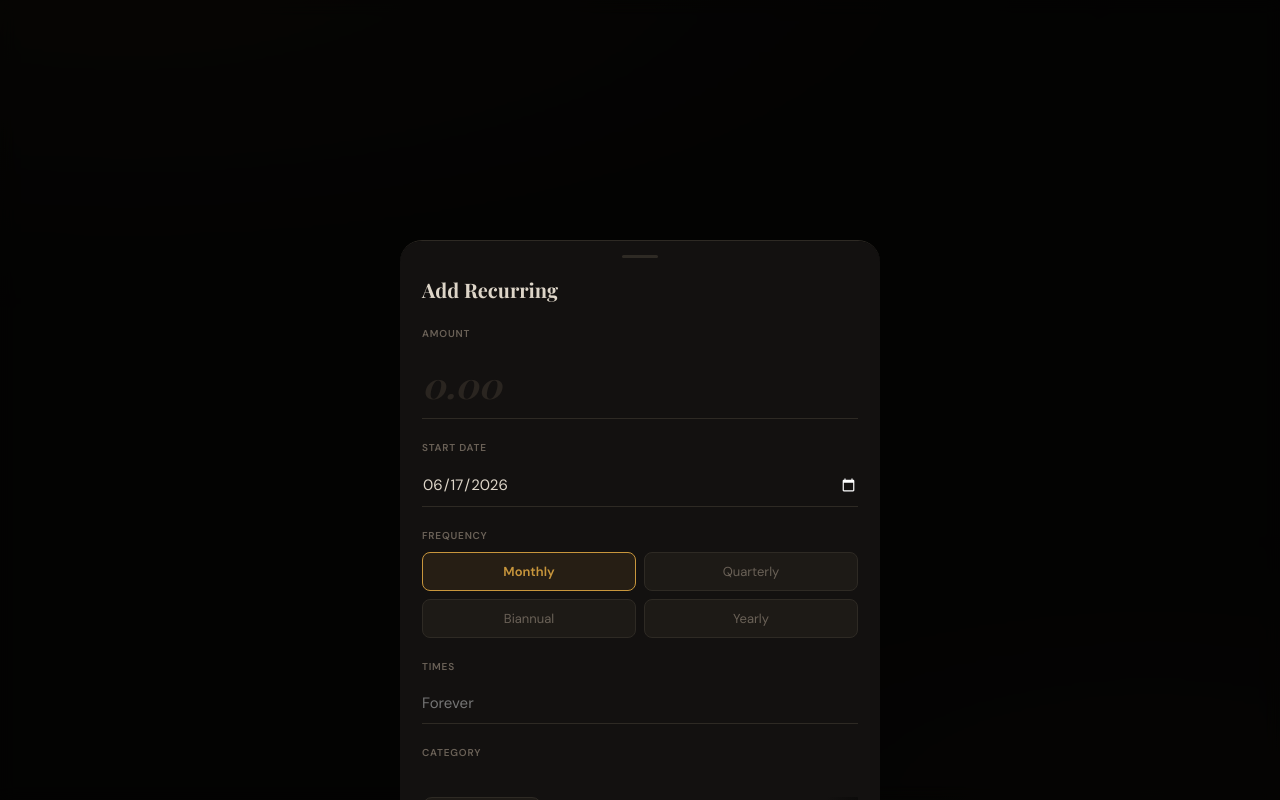
RecurringModal › does not save without a category
Type "100" into the number field with placeholder "0.00".
click(640, 384); type("100")  # box [422,350,858,419]
(page scrolled)
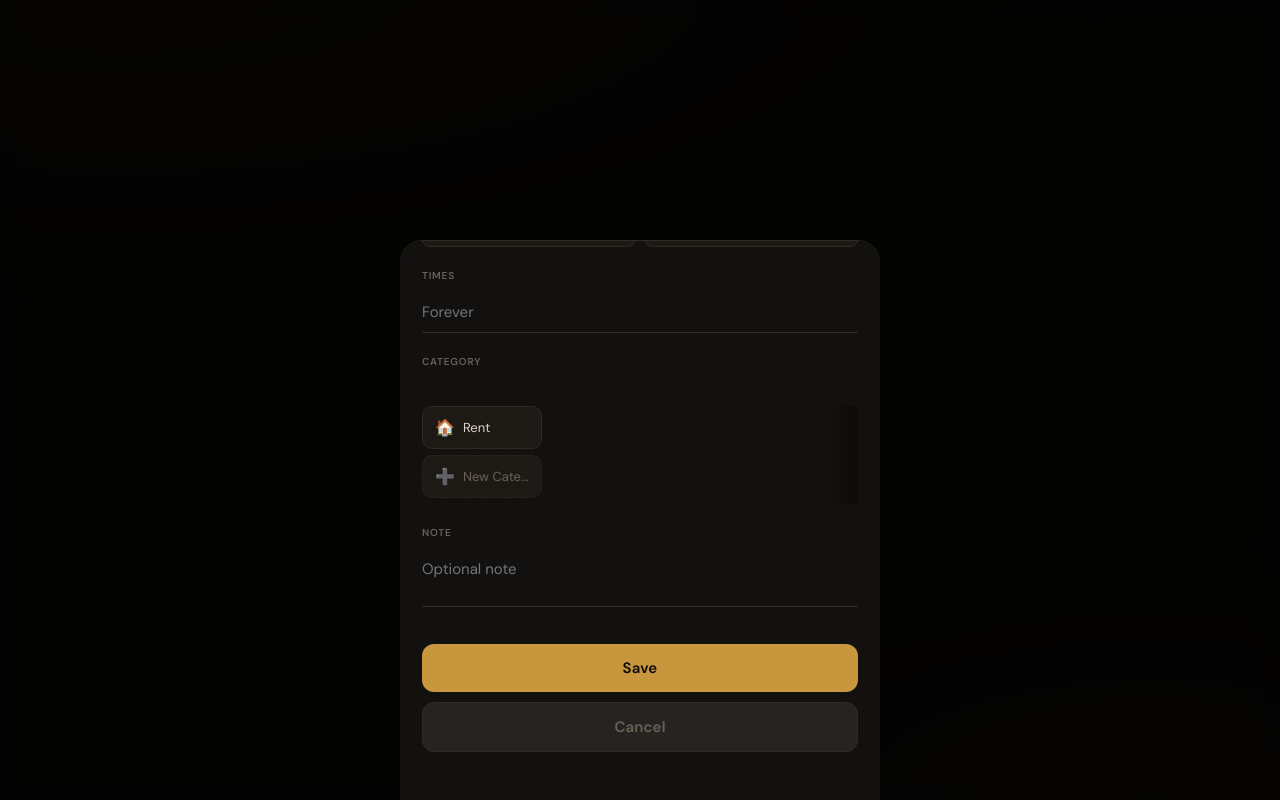
Click the button "Save".
click(640, 668)  # box [422,644,858,692]
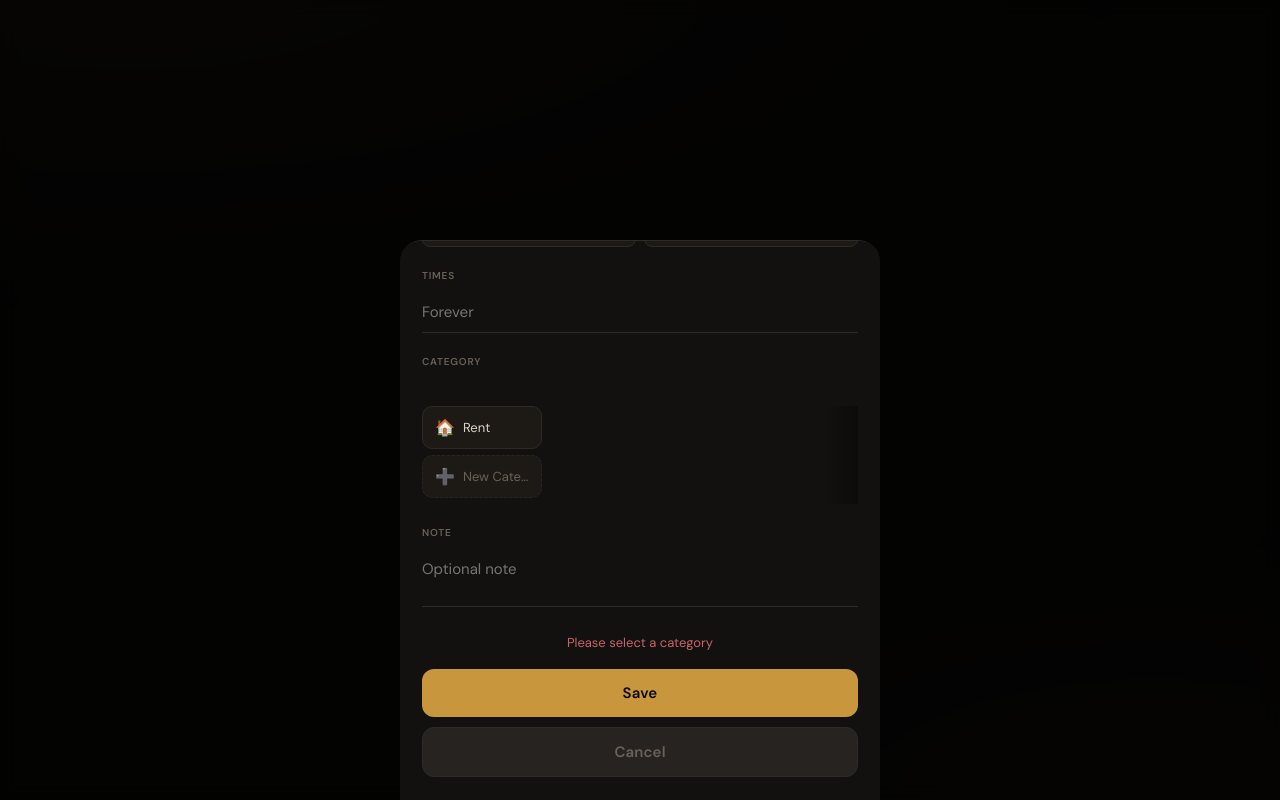
Expected: the text "Please select a category" is shown, [567,634,713,651]
